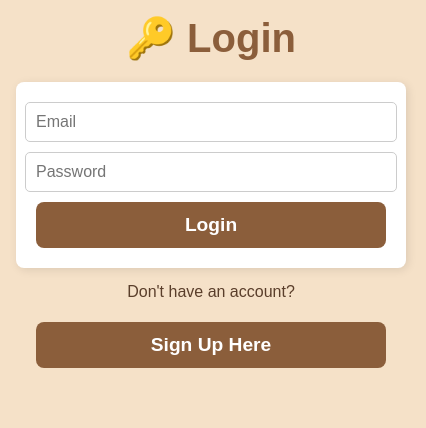
Test: Login Page › displays error on failed login
Type "wrong@example.com" into the field with placeholder "Email" at (211, 122), box [25,102,397,142]
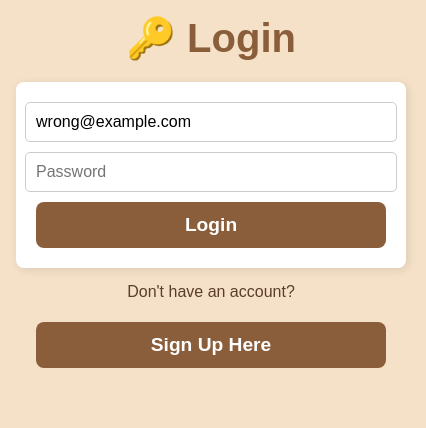
Type "wrongpass" into the password field with placeholder "Password" at (211, 172), box [25,152,397,192]
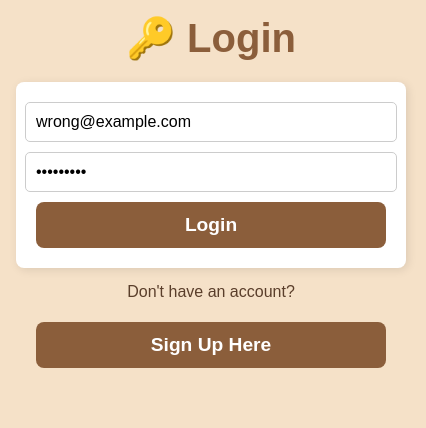
Click the button "Login" at (211, 225), box [36,202,386,248]
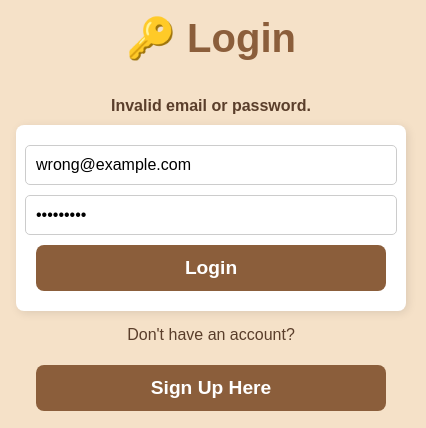
Now the text "Invalid email or password." is shown, box [111,97,311,115]
